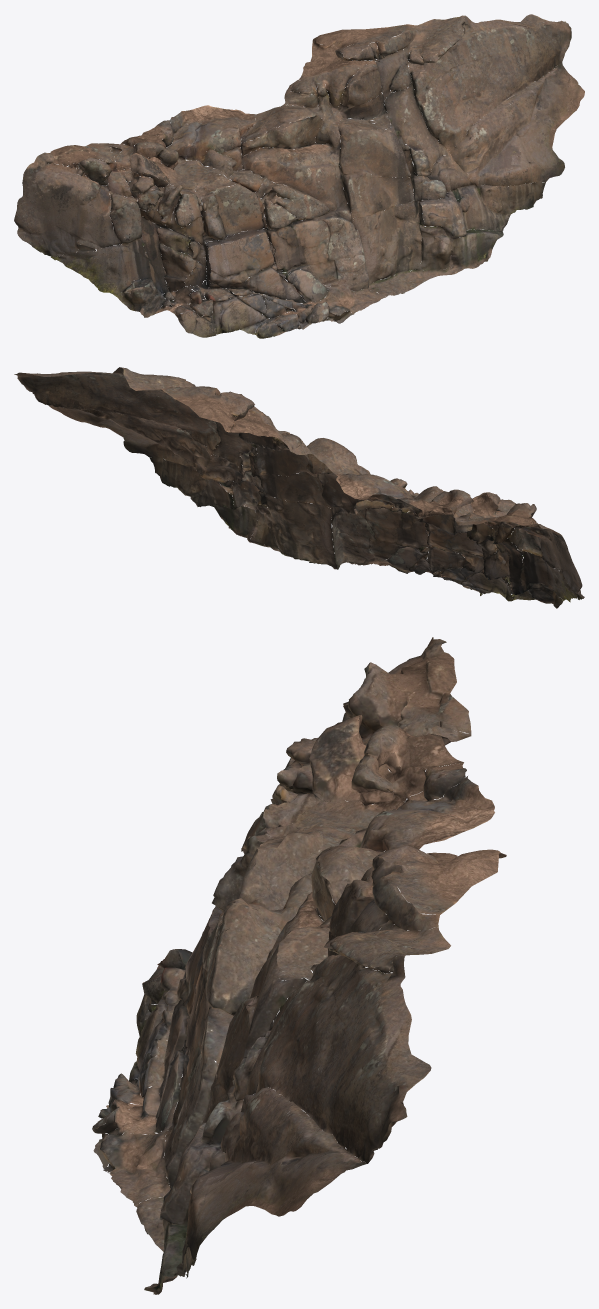
The model's file is namaqualand_cliff_02.glb.
The picture shows the model from 3 angles, top to bottom: view 1: azimuth 30°, elevation 25°; view 2: azimuth 150°, elevation 25°; view 3: azimuth 270°, elevation 25°; orthographic projection. The views are drawn at different scales.
Parts seen in each view (by area): view 1: drone_rock_02_LOD0; view 2: drone_rock_02_LOD0; view 3: drone_rock_02_LOD0.
Part boxes in pixels (box(x1,y1,x2,y2)): drone_rock_02_LOD0: box(14, 14, 584, 338); drone_rock_02_LOD0: box(14, 367, 584, 608); drone_rock_02_LOD0: box(92, 637, 506, 1294).
Bounding box in the file's own units: 20.22 × 7.19 × 6.6.
Materials: 1 (1 with a texture image).
